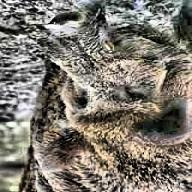boar: (20, 1, 191, 192)
